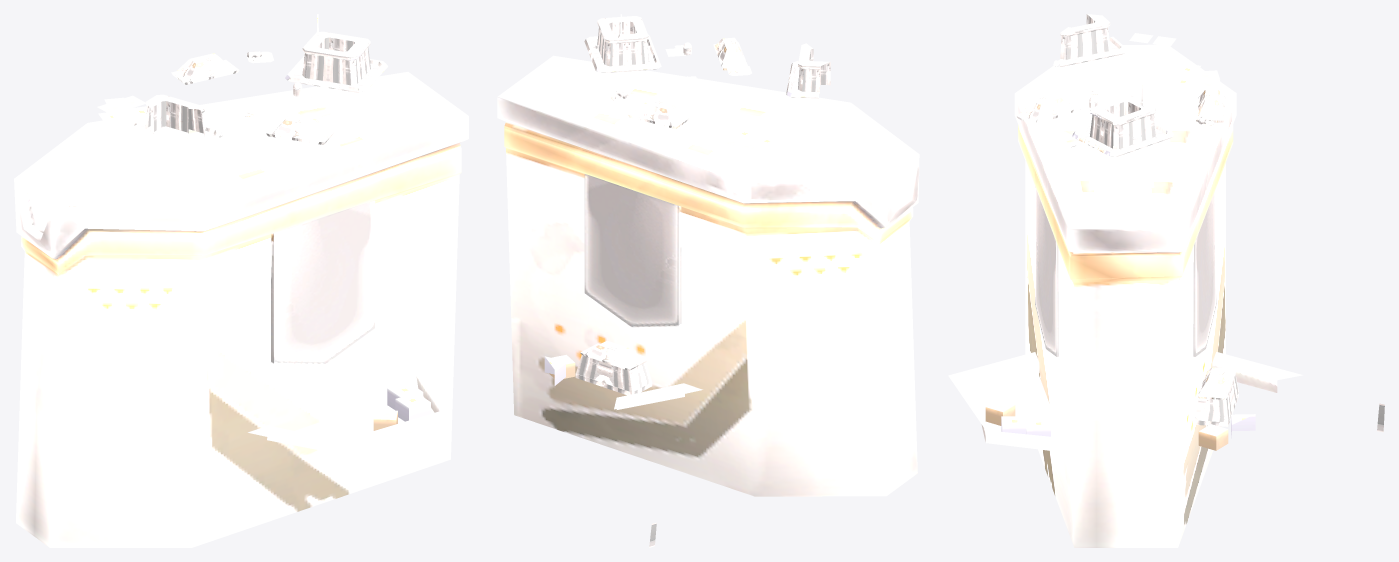
The model's file is District_1_1.fbx.
3 views of the same model, side by side, from view 1: azimuth 30°, elevation 25°; view 2: azimuth 150°, elevation 25°; view 3: azimuth 270°, elevation 25° (orthographic). The views are drawn at different scales.
Visible parts, largest first — view 1: District_1_1; view 2: District_1_1; view 3: District_1_1.
Part boxes in pixels (x1,y1,x2,y2): District_1_1: (14,14,468,547); District_1_1: (497,14,919,547); District_1_1: (948,14,1384,547).
Bounding box in the file's own units: 766 × 798 × 746.
